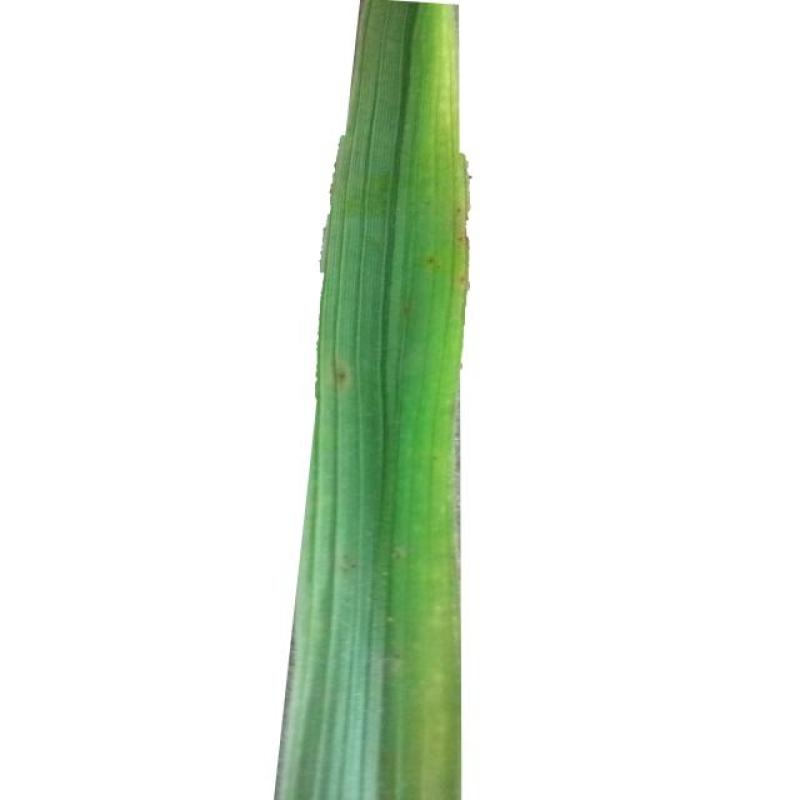Rice Tungro: (355, 1, 481, 800)
